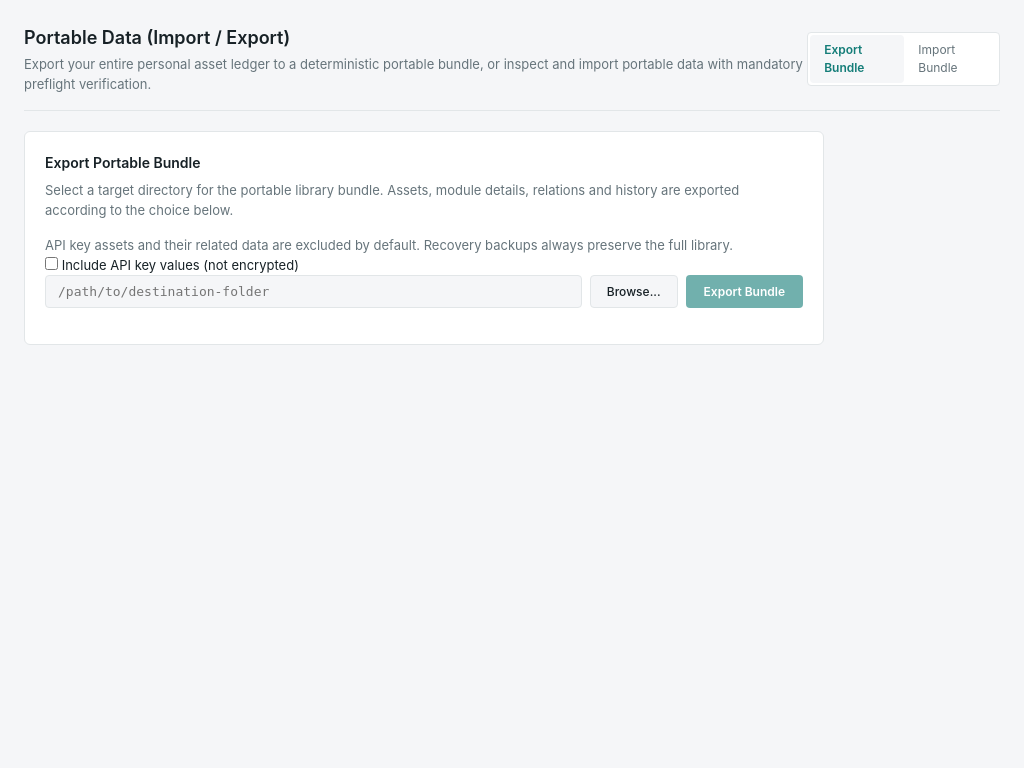
Test case: Import/Export and Settings Workflow UI (P5-09) › applies the previewed path and fingerprint, then presents its receipt
Click the tab with test id "tab-import" at (951, 59), box [904, 35, 997, 83]
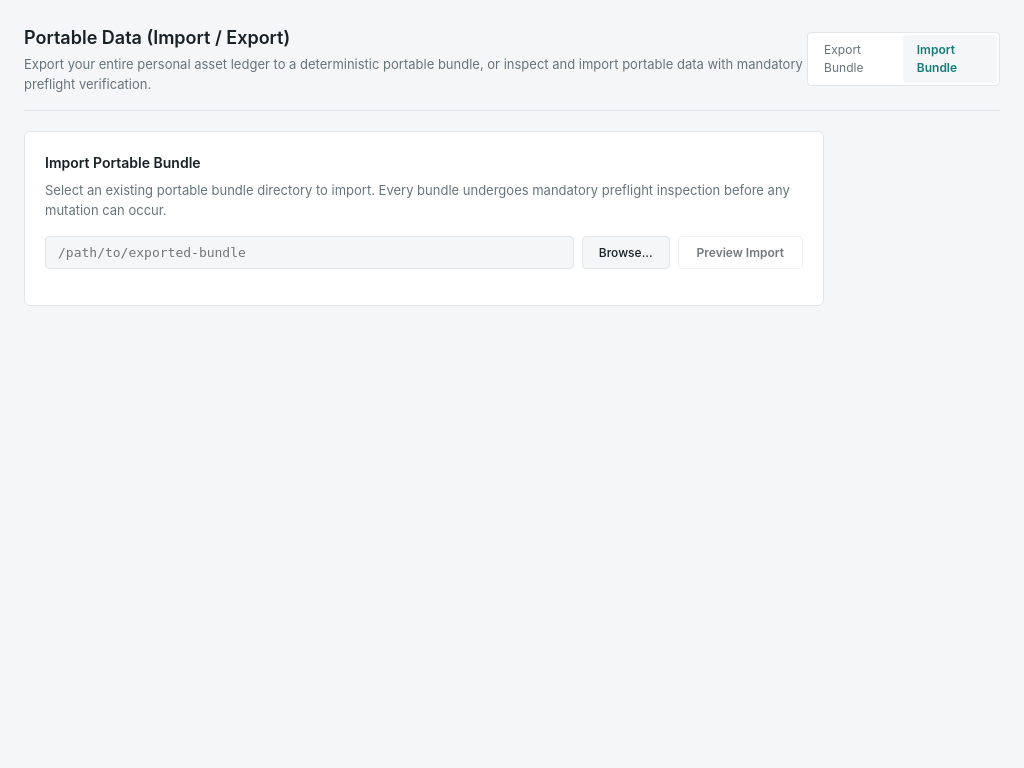
Type "/path/to/valid-bundle" into the field with test id "import-dir-input" at (309, 252), box [45, 236, 574, 269]
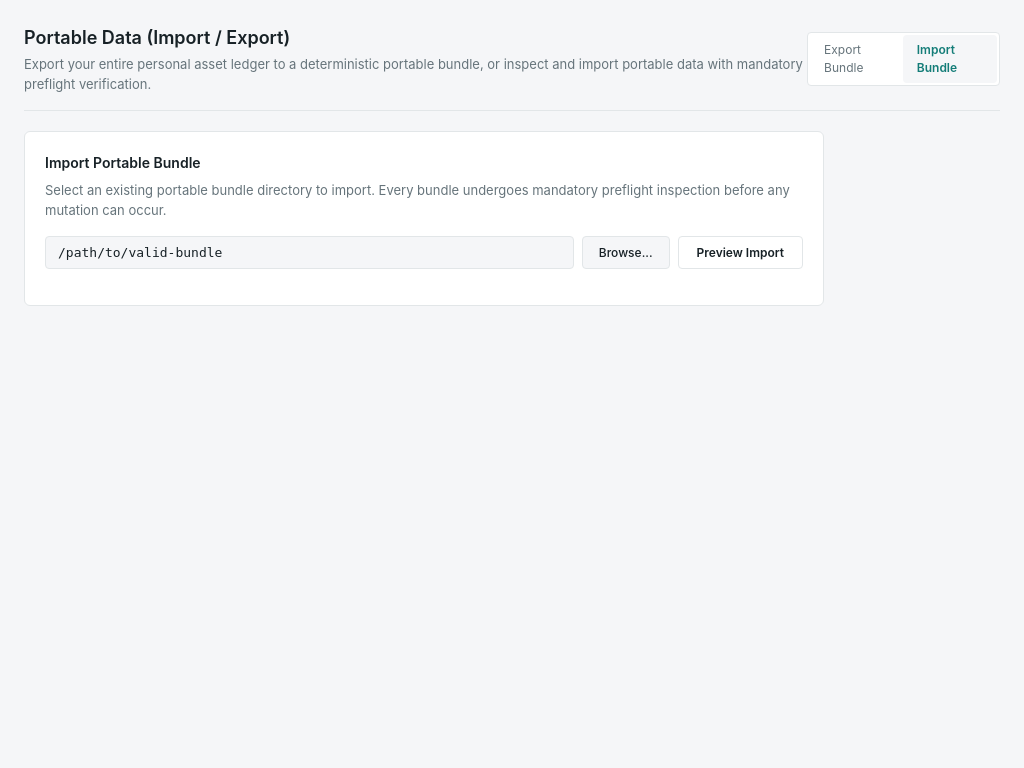
Click the button with test id "preview-import-button" at (740, 252), box [678, 236, 803, 269]
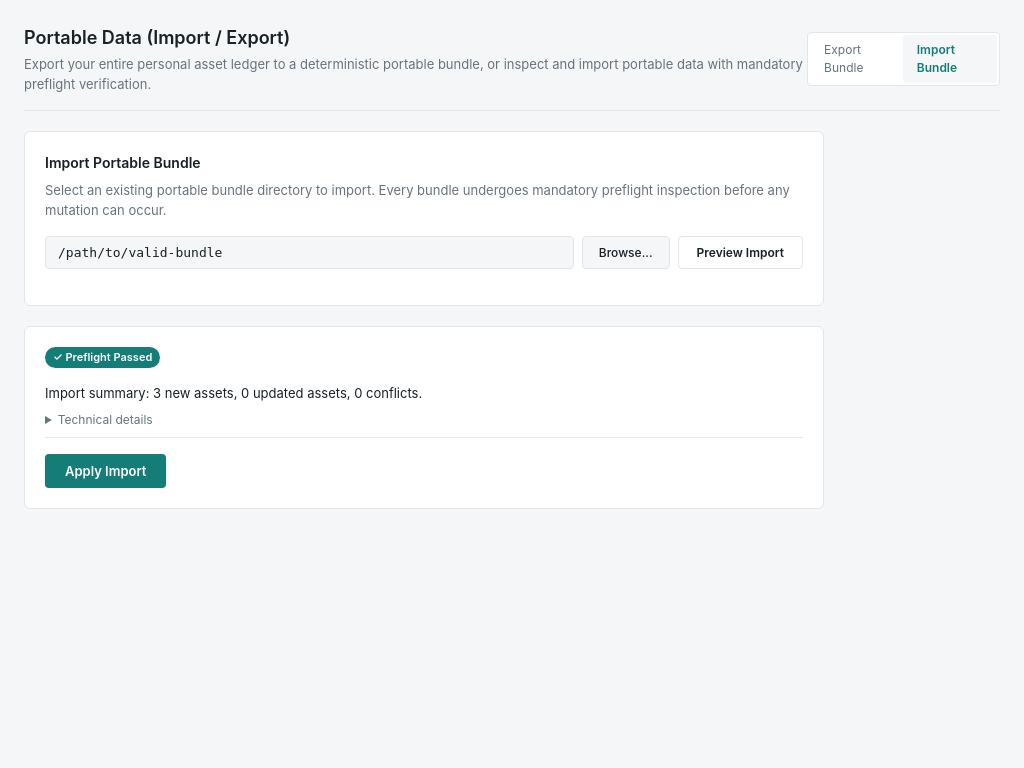
Now the element with test id "import-preview-container" is shown, box [24, 326, 824, 509]
Note: Confirm and apply
Click the button with test id "apply-import-button" at (106, 471), box [45, 454, 166, 488]
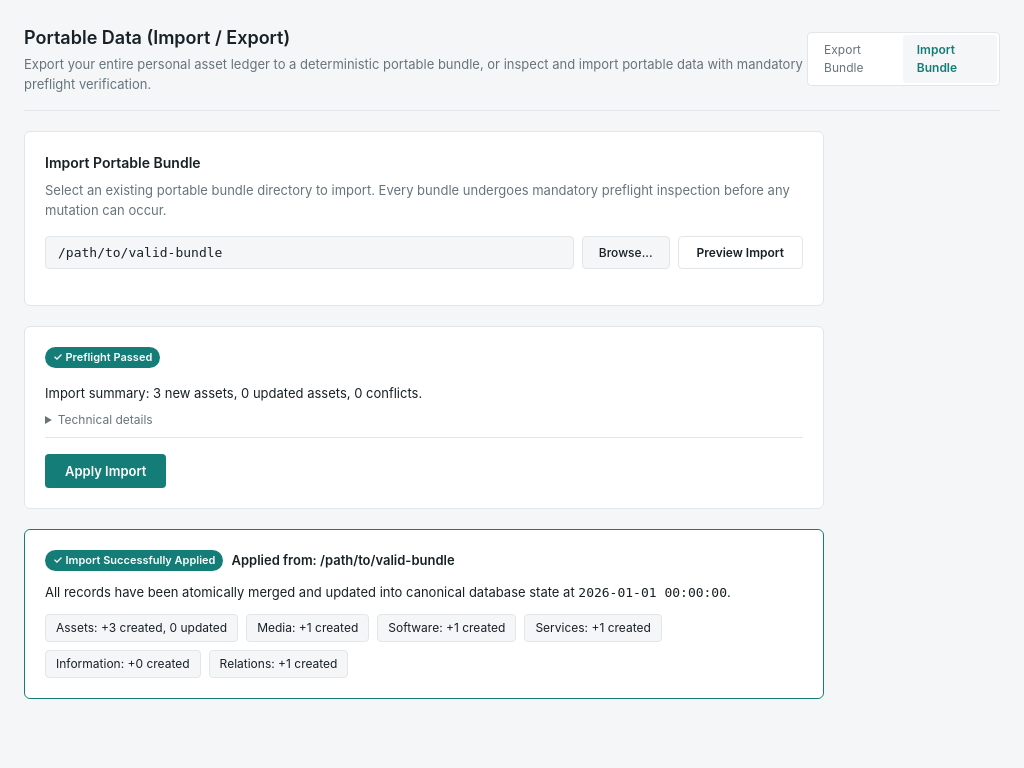
Now the element with test id "import-receipt" is shown, box [24, 529, 824, 699]
Now the text "✓ Import Successfully Applied" is shown, box [45, 550, 224, 570]
Now the text "Assets: +3 created, 0 updated" is shown, box [45, 614, 238, 642]
